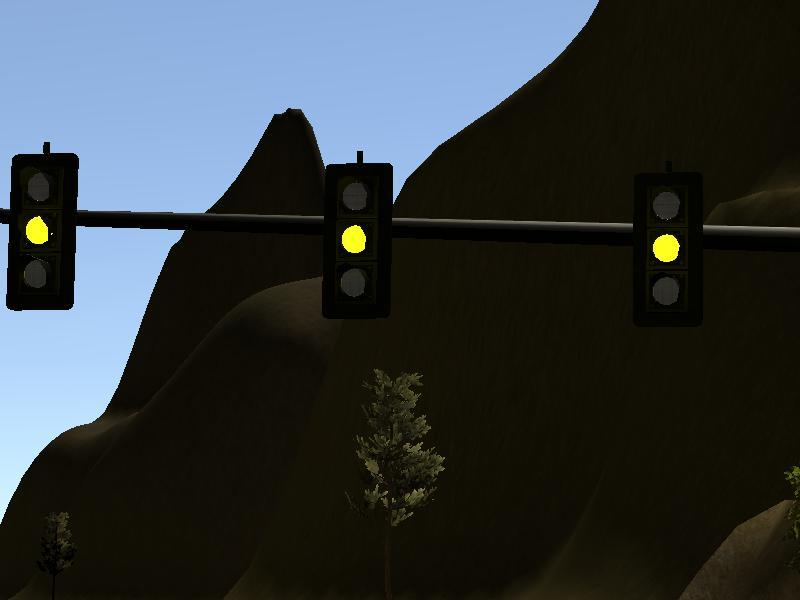Yellow: (630, 174, 703, 331), (6, 154, 78, 311), (323, 163, 395, 318)
